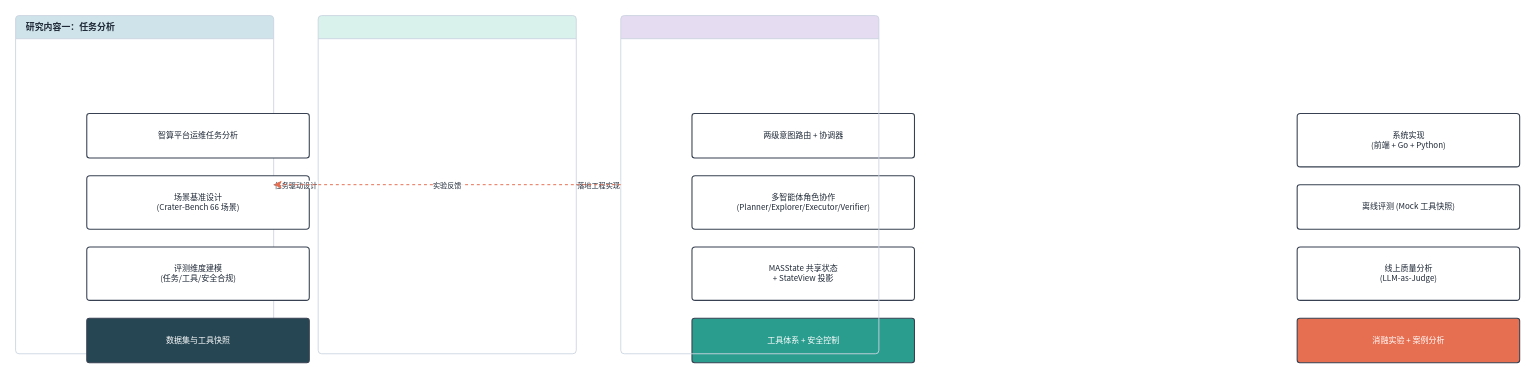
Some shapes in this 1536 by 379 pixel diagram are drawn without their labels. Here are the shapes that lost their labels. From the top down, the box of each, then its label:
(317, 15, 576, 354): 研究内容二：Mops 框架设计
(620, 15, 879, 354): 研究内容三：实现与验证
